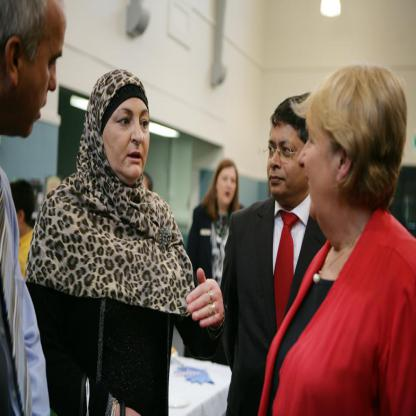face: (18, 21, 61, 142), (109, 91, 151, 182), (298, 119, 330, 220), (268, 124, 297, 196), (217, 169, 238, 206)
